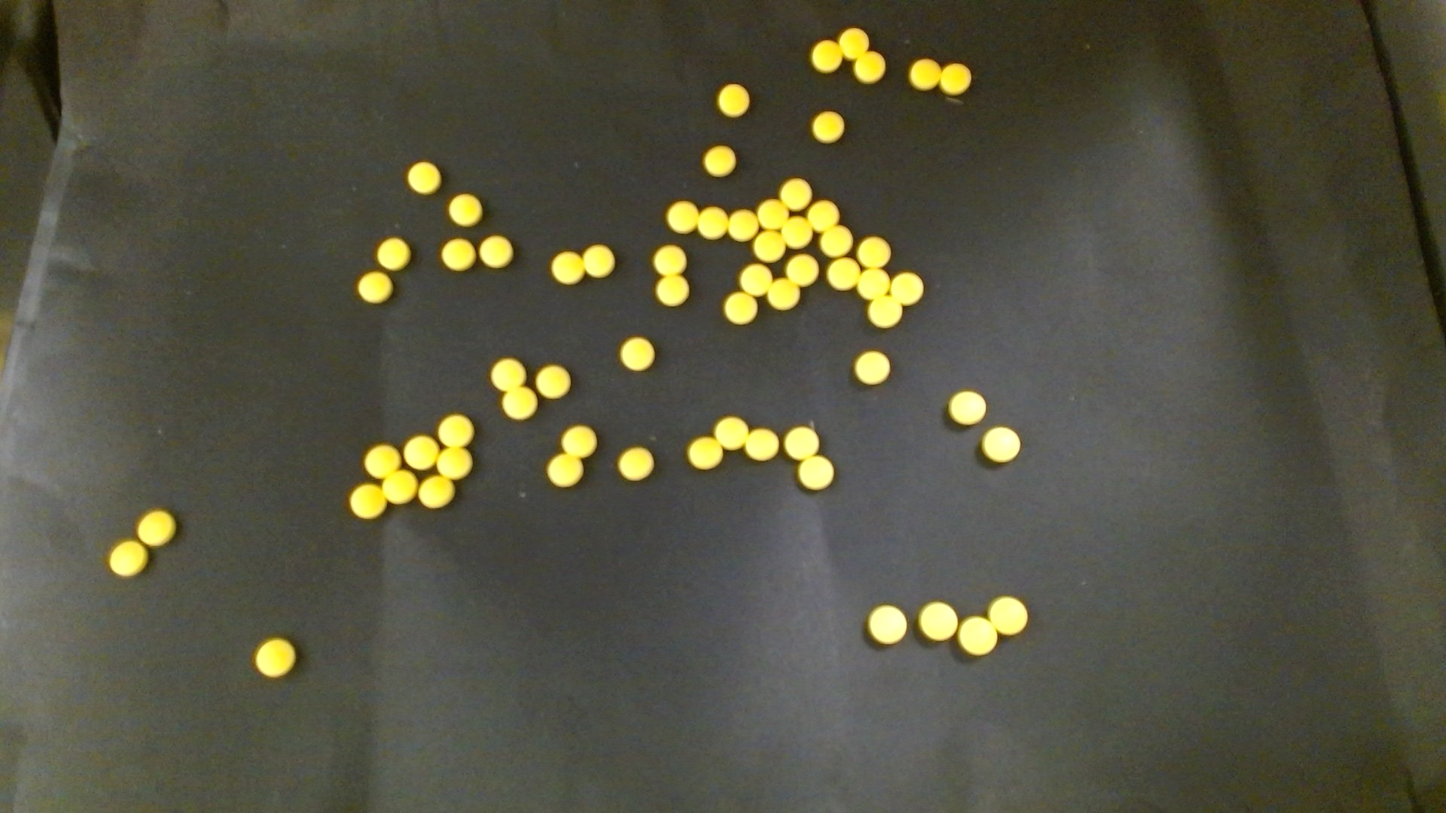Circle: (252, 637, 297, 679), (868, 604, 908, 645), (917, 601, 957, 641), (989, 596, 1029, 636), (957, 617, 996, 656), (980, 426, 1020, 464), (947, 389, 987, 426), (108, 540, 148, 577), (136, 510, 175, 547), (797, 455, 834, 492), (853, 349, 891, 385), (618, 335, 656, 371), (349, 483, 386, 519), (363, 443, 399, 478), (617, 447, 654, 481), (535, 364, 571, 398), (438, 413, 474, 447), (418, 475, 454, 509), (548, 454, 583, 488), (479, 235, 514, 269), (404, 435, 438, 470), (560, 425, 596, 458), (784, 426, 818, 460), (406, 160, 440, 194), (490, 357, 525, 390), (437, 446, 472, 479), (501, 388, 537, 420), (550, 251, 584, 284), (447, 193, 481, 226), (377, 236, 410, 270), (716, 84, 750, 117), (383, 470, 416, 504), (779, 177, 812, 211), (357, 271, 392, 303), (714, 416, 747, 449), (745, 428, 778, 461), (890, 272, 923, 305), (687, 437, 721, 469), (441, 238, 475, 270), (655, 274, 689, 306), (868, 296, 902, 328), (723, 293, 758, 324), (811, 110, 844, 142), (940, 62, 972, 95), (703, 145, 736, 177), (666, 200, 698, 233), (653, 244, 686, 276), (857, 236, 890, 268), (837, 27, 869, 59), (827, 257, 859, 289), (754, 230, 786, 262), (780, 216, 812, 248), (584, 244, 615, 277), (810, 39, 841, 71), (739, 263, 771, 294), (822, 224, 853, 256), (858, 267, 889, 299), (909, 58, 940, 89), (853, 51, 884, 82), (786, 254, 817, 285), (728, 209, 758, 241), (807, 200, 837, 232), (767, 279, 798, 309), (698, 206, 728, 237), (758, 198, 788, 229)
